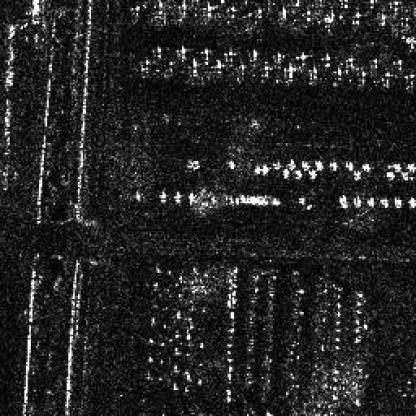airplane: (283, 63, 297, 83), (136, 57, 154, 70), (152, 2, 166, 18), (320, 10, 336, 24), (330, 67, 344, 83), (307, 66, 322, 80), (249, 46, 260, 64), (356, 67, 370, 81), (379, 72, 393, 86), (369, 55, 382, 70), (237, 62, 249, 78), (402, 73, 414, 89), (252, 6, 265, 20), (386, 0, 400, 13), (213, 57, 226, 71), (294, 49, 307, 63), (318, 52, 332, 65), (224, 47, 236, 62), (128, 2, 142, 14), (176, 2, 188, 16), (343, 56, 357, 68), (393, 58, 405, 72), (224, 159, 238, 171), (202, 45, 212, 61), (175, 46, 187, 58), (304, 8, 315, 21), (352, 10, 362, 24), (170, 188, 180, 202), (260, 64, 271, 76), (377, 13, 387, 26), (274, 51, 284, 64), (228, 6, 237, 20), (338, 195, 349, 206), (367, 0, 382, 8), (152, 46, 162, 58), (164, 60, 174, 72), (158, 190, 168, 202), (351, 195, 361, 206), (280, 4, 289, 16), (186, 190, 194, 203), (378, 198, 388, 208), (393, 198, 403, 208), (260, 164, 268, 176), (383, 170, 395, 178), (392, 162, 402, 171), (404, 162, 414, 171), (406, 197, 414, 208), (281, 167, 288, 179), (192, 57, 200, 67), (254, 166, 262, 176), (271, 161, 281, 169), (294, 169, 302, 179), (300, 159, 308, 169), (314, 158, 322, 168), (344, 159, 352, 169), (361, 161, 369, 171), (400, 172, 410, 180), (366, 196, 374, 206), (307, 169, 315, 177), (328, 161, 336, 169), (353, 169, 359, 179), (288, 160, 294, 168)
